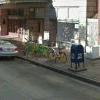Car: (1, 35, 21, 62)
